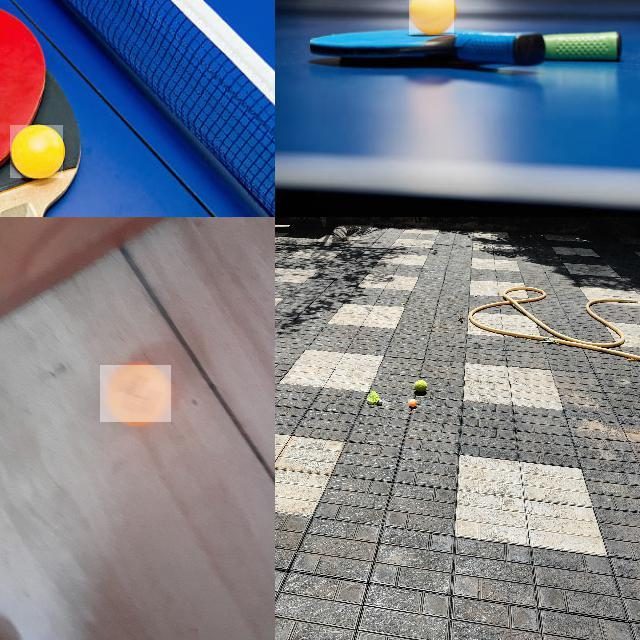ping-pong-ball: (100, 365, 172, 423), (10, 125, 64, 179), (409, 0, 456, 37), (408, 398, 416, 406)
